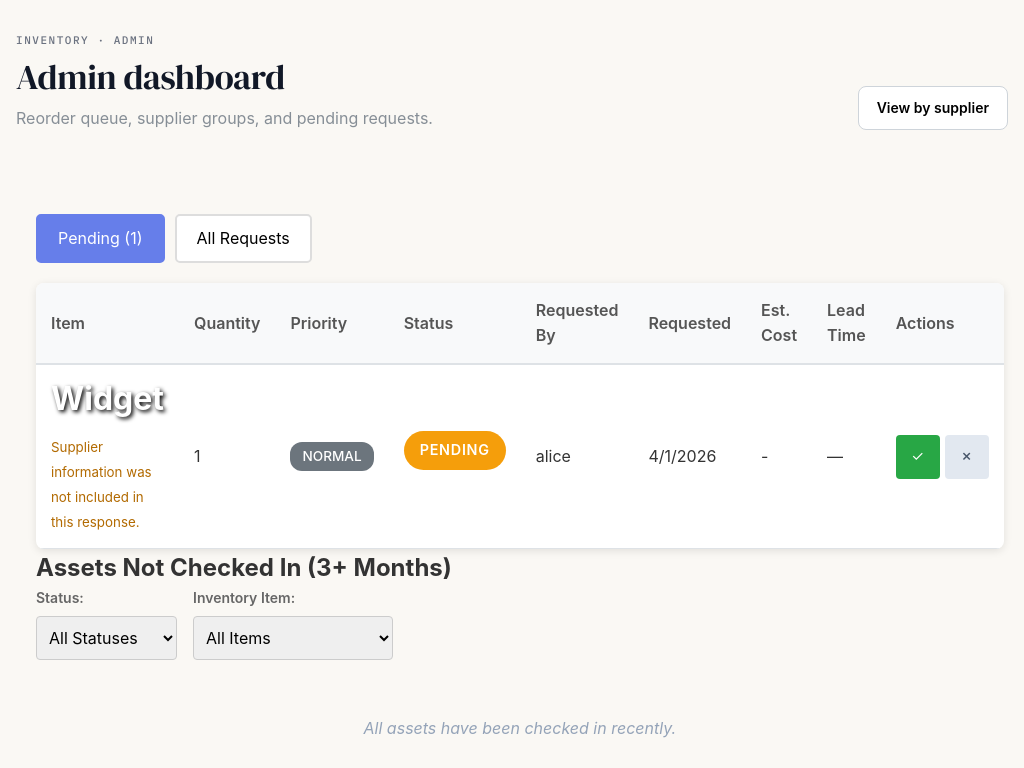
Test case: AdminDashboard — approve flow › approves a pending request and shows a success notification
Click the button titled "Approve": [918, 457] box [896,435,940,479]
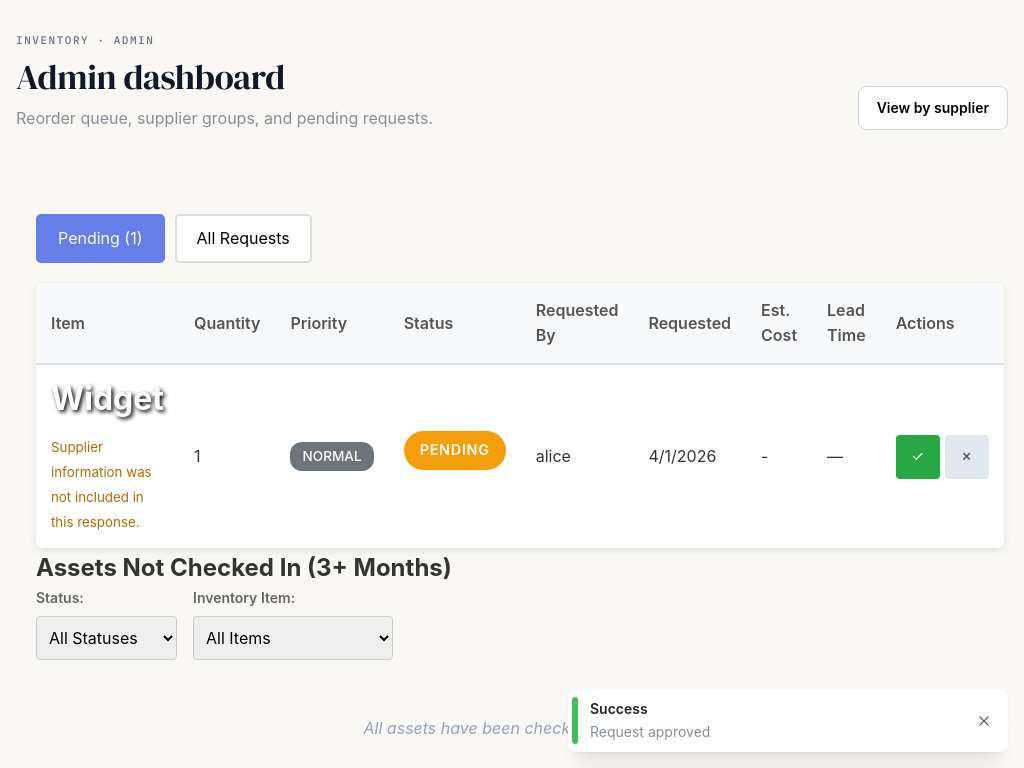
Expected: the text "Request approved" is shown, [590,723,710,740]
